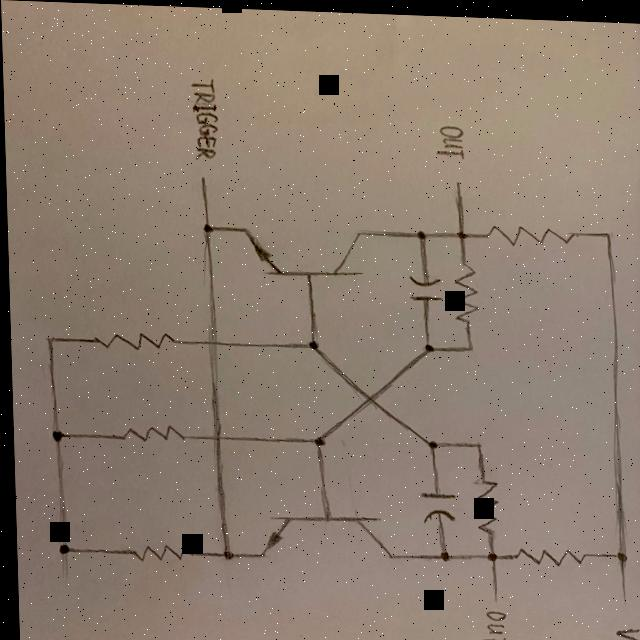capacitor: (411, 482, 457, 528), (403, 266, 446, 307)
crossover: (350, 379, 391, 415), (198, 424, 233, 450), (192, 330, 227, 355)
junction: (37, 421, 73, 452), (300, 424, 333, 450), (191, 213, 222, 240), (298, 332, 329, 357), (211, 540, 242, 565), (417, 429, 445, 454), (406, 222, 433, 246), (35, 329, 60, 354), (603, 542, 631, 564), (47, 538, 77, 558), (477, 543, 503, 564), (429, 542, 454, 563), (416, 335, 440, 356), (596, 221, 621, 240), (451, 222, 476, 241), (465, 433, 488, 452), (457, 335, 479, 354)
resistor: (89, 327, 175, 358), (450, 254, 481, 324), (114, 422, 187, 451), (482, 221, 577, 243), (468, 467, 499, 532), (118, 540, 195, 566), (508, 540, 588, 565)
terminal: (445, 168, 475, 201), (53, 563, 73, 591), (613, 581, 630, 612), (194, 170, 212, 199), (483, 581, 503, 605)
text: (187, 74, 224, 161), (430, 119, 467, 157), (473, 605, 508, 640), (610, 621, 640, 640)
transistor: (235, 216, 373, 286), (250, 504, 392, 569)
